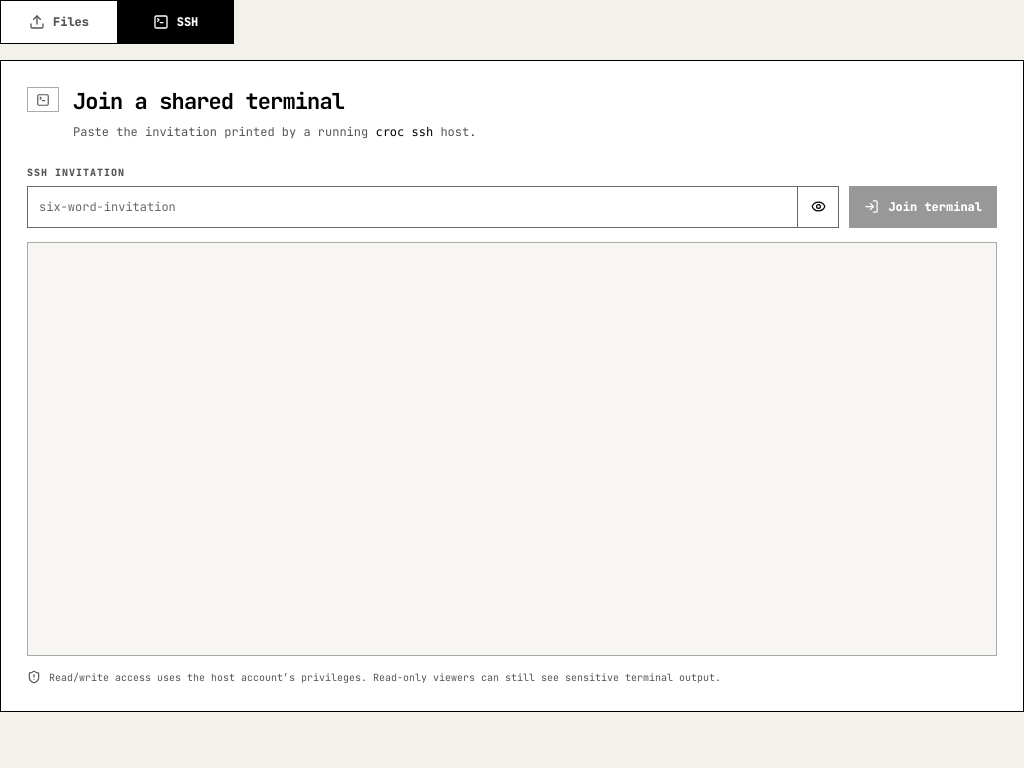
Test: SSH homepage mode › opens shared SSH URLs directly and clears its hash when returning to files
Expected: the heading "Join a shared terminal" is shown, [73,87,344,116]
Click the tab "Files". click: x=59, y=22
box: [1,1,117,43]
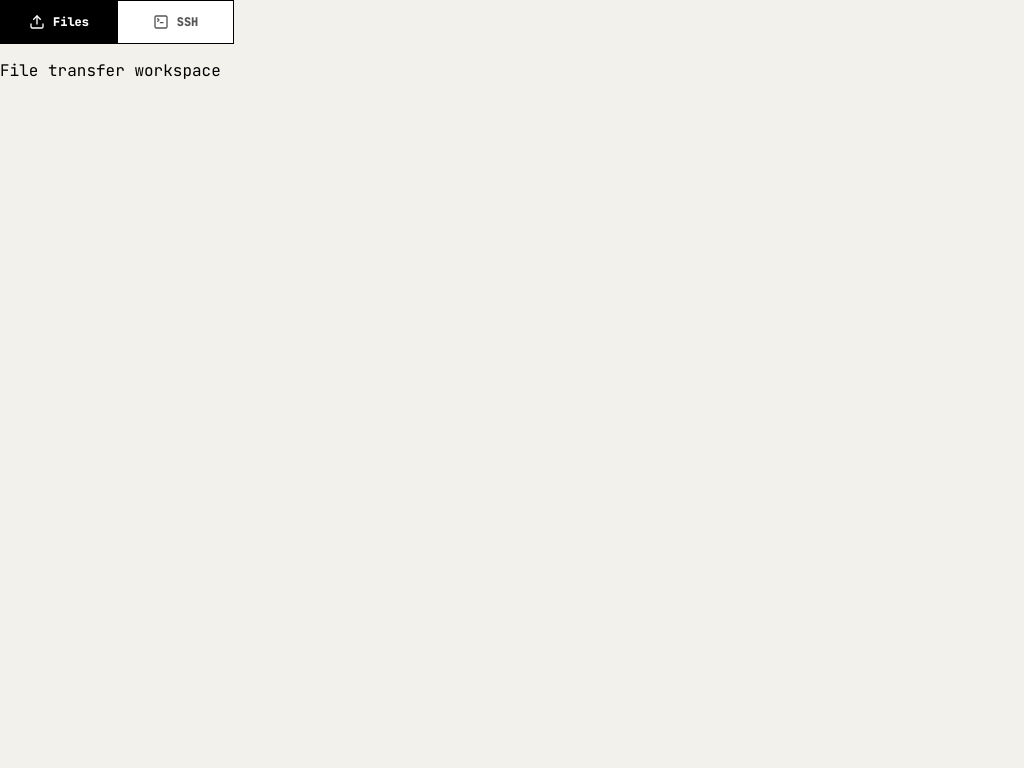
Expected: the text "File transfer workspace" is shown, [0,60,221,81]
